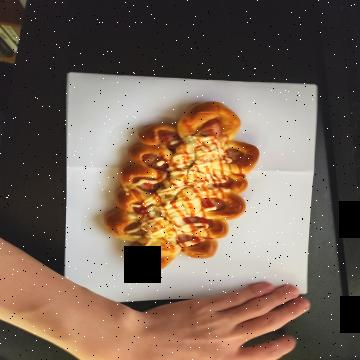pizza_bread: (104, 95, 272, 248)
